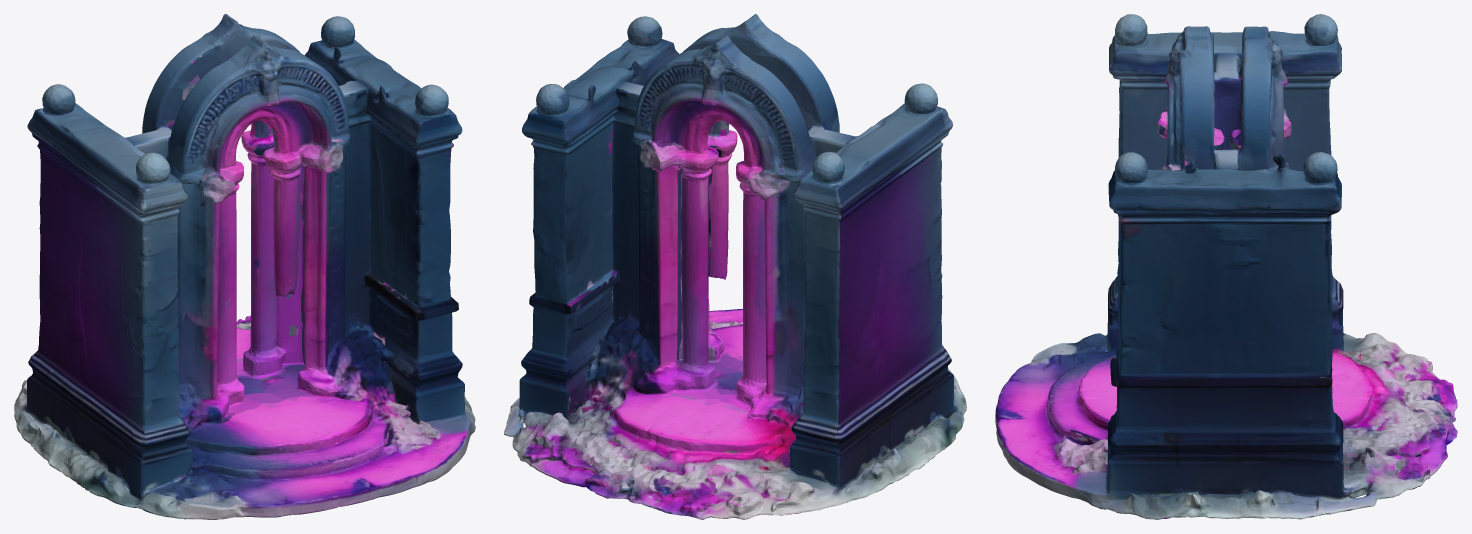
The model's file is ruin-dais-generated-2026-04-19T23-21-06-179Z.high.glb.
3 renders of one model, left to right at view 1: azimuth 30°, elevation 25°; view 2: azimuth 150°, elevation 25°; view 3: azimuth 270°, elevation 25°, orthographic.
Visible parts, largest first — view 1: temp_mesh.ply; view 2: temp_mesh.ply; view 3: temp_mesh.ply.
Boxes of the visible parts, box(x1,y1,x2,y2) form: temp_mesh.ply: box(14, 14, 475, 519); temp_mesh.ply: box(504, 14, 966, 519); temp_mesh.ply: box(995, 14, 1457, 519).
Bounding box in the file's own units: 1.89 × 1.88 × 1.96.
Materials: 1 (1 with a texture image).
